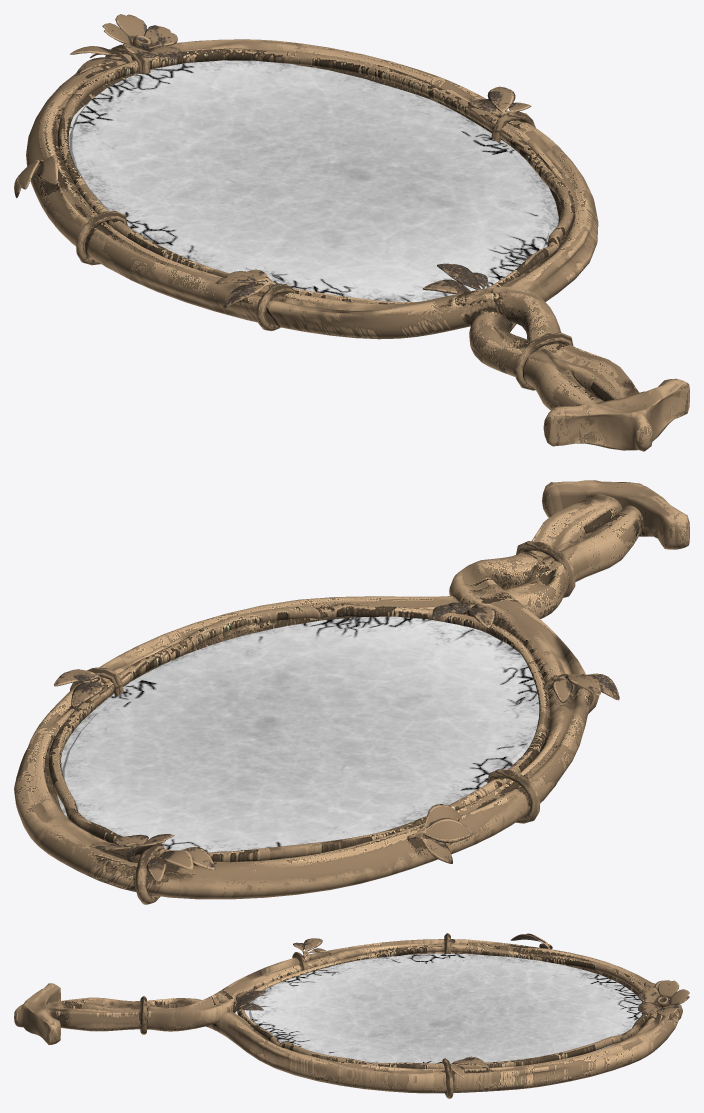
The model's file is mirror(破壊された).fbx.
3 renders of one model, top to bottom at view 1: azimuth 30°, elevation 25°; view 2: azimuth 150°, elevation 25°; view 3: azimuth 270°, elevation 25°, orthographic. The views are drawn at different scales.
Parts seen in each view (by area): view 1: pCube13; view 2: pCube13; view 3: pCube13.
Part boxes in pixels (x1,y1,x2,y2): pCube13: [14, 14, 689, 451]; pCube13: [14, 480, 689, 904]; pCube13: [14, 933, 689, 1098].
Bounding box in the file's own units: 2.28 × 0.309 × 4.47.
6 materials, 6 textured.
